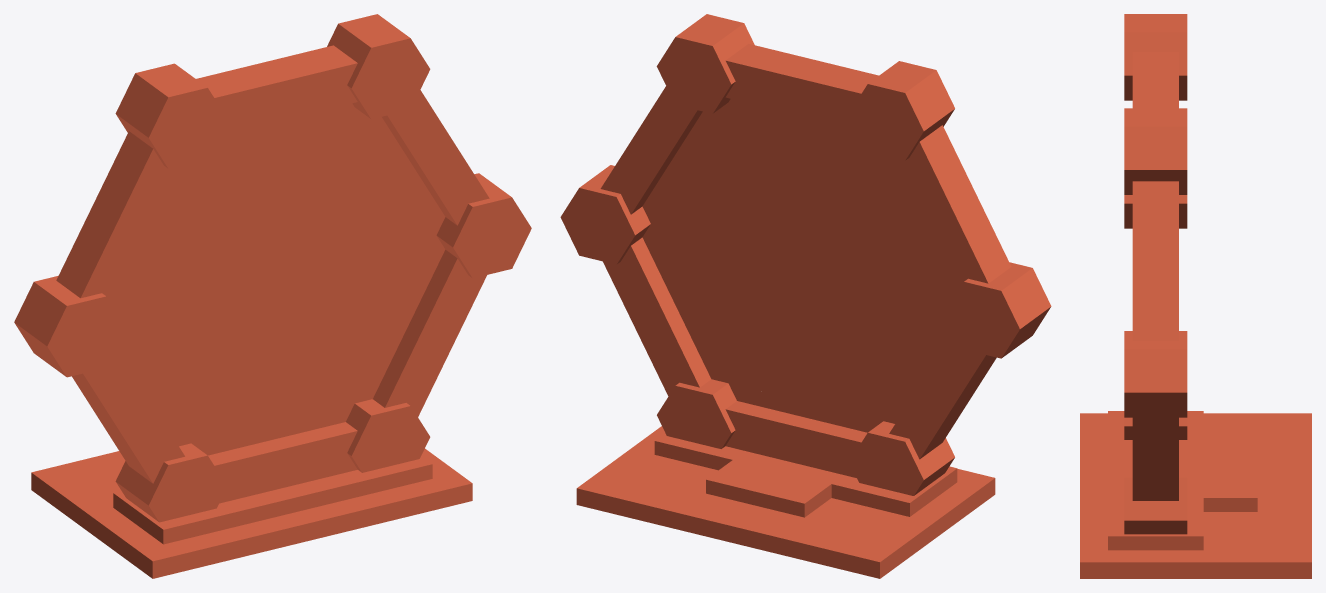
Rendered from portal.glb.
3 renders of one model, left to right at view 1: azimuth 30°, elevation 25°; view 2: azimuth 150°, elevation 25°; view 3: azimuth 270°, elevation 25°, orthographic. The views are drawn at different scales.
Visible parts, largest first — view 1: portal; view 2: portal; view 3: portal.
Boxes of the visible parts, bbox=[...] form: portal: bbox=[14, 14, 531, 578]; portal: bbox=[560, 14, 1051, 578]; portal: bbox=[1080, 14, 1311, 578].
Bounding box in the file's own units: 15.21 × 13.65 × 6.61.
